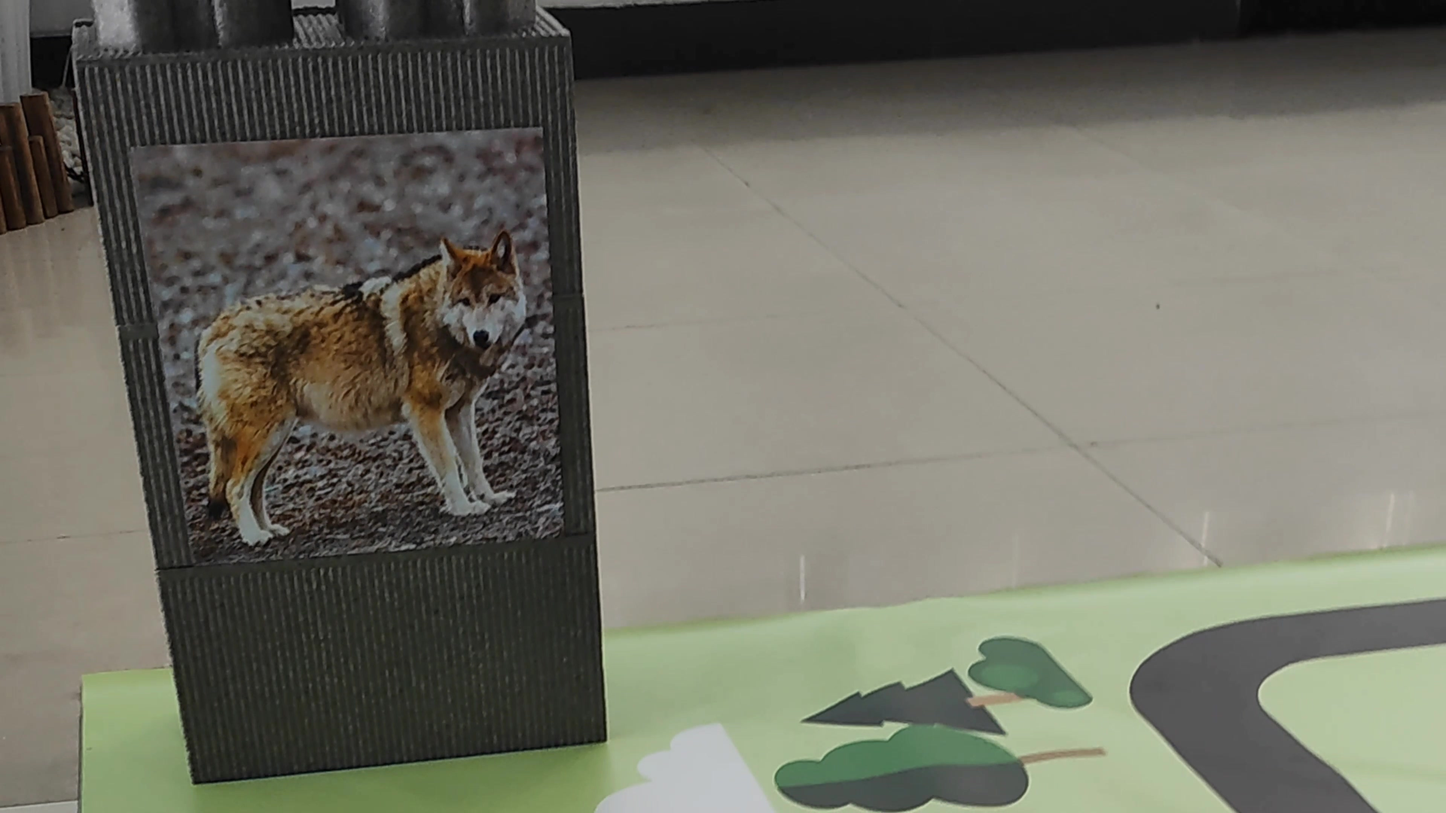wolf: (184, 218, 555, 552)
